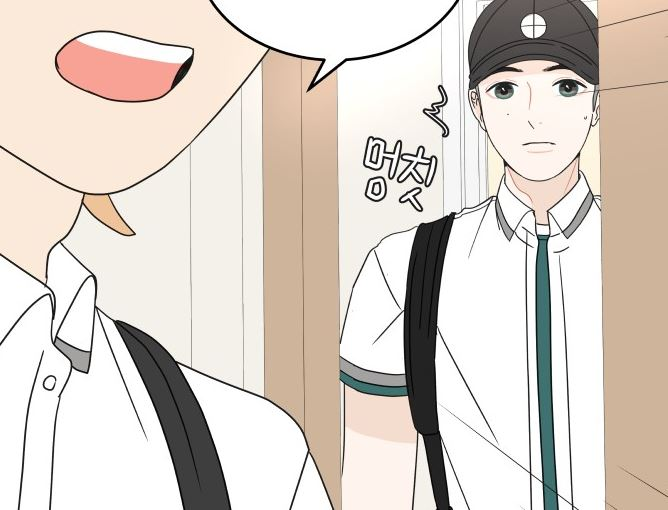hat: (468, 1, 598, 91)
